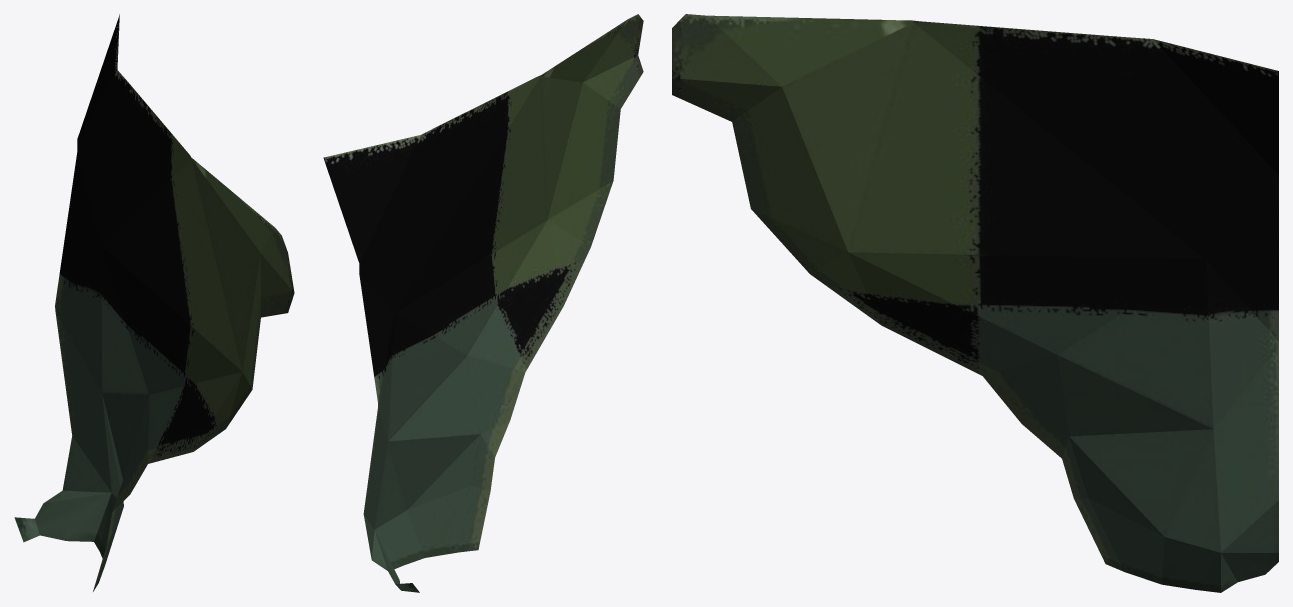
The picture shows the model from 3 angles, left to right: view 1: azimuth 30°, elevation 25°; view 2: azimuth 150°, elevation 25°; view 3: azimuth 270°, elevation 25°; orthographic projection. The views are drawn at different scales.
Bounding box in the file's own units: 1.31 × 5.9 × 5.9.
Materials: 2 (2 with a texture image).
